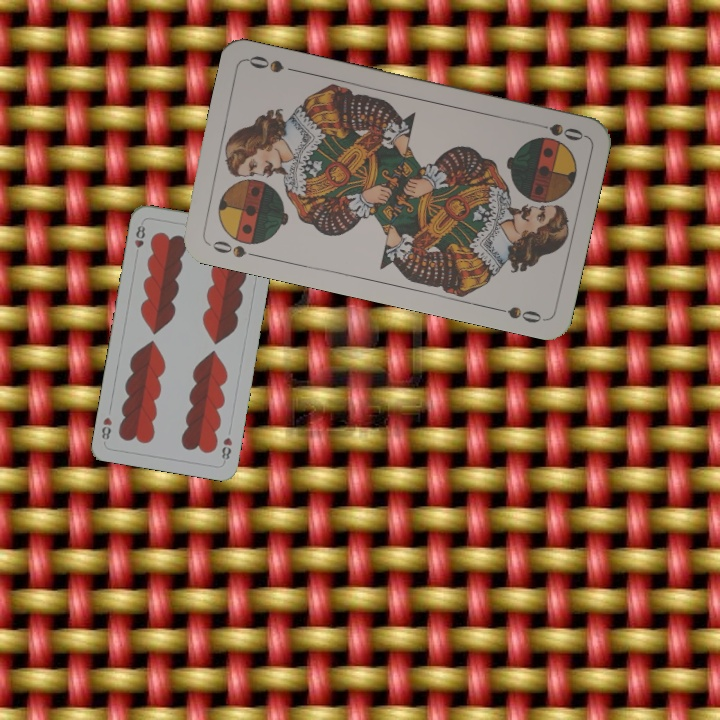H8: (131, 221, 148, 259), (218, 433, 235, 465)
SO: (528, 118, 586, 144), (204, 236, 262, 261)
